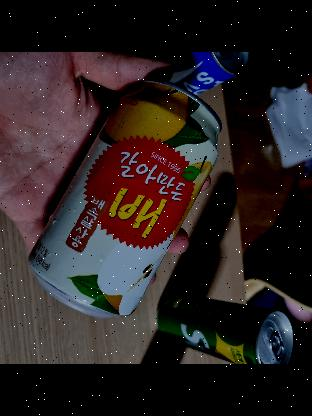Can: (26, 80, 220, 318)
